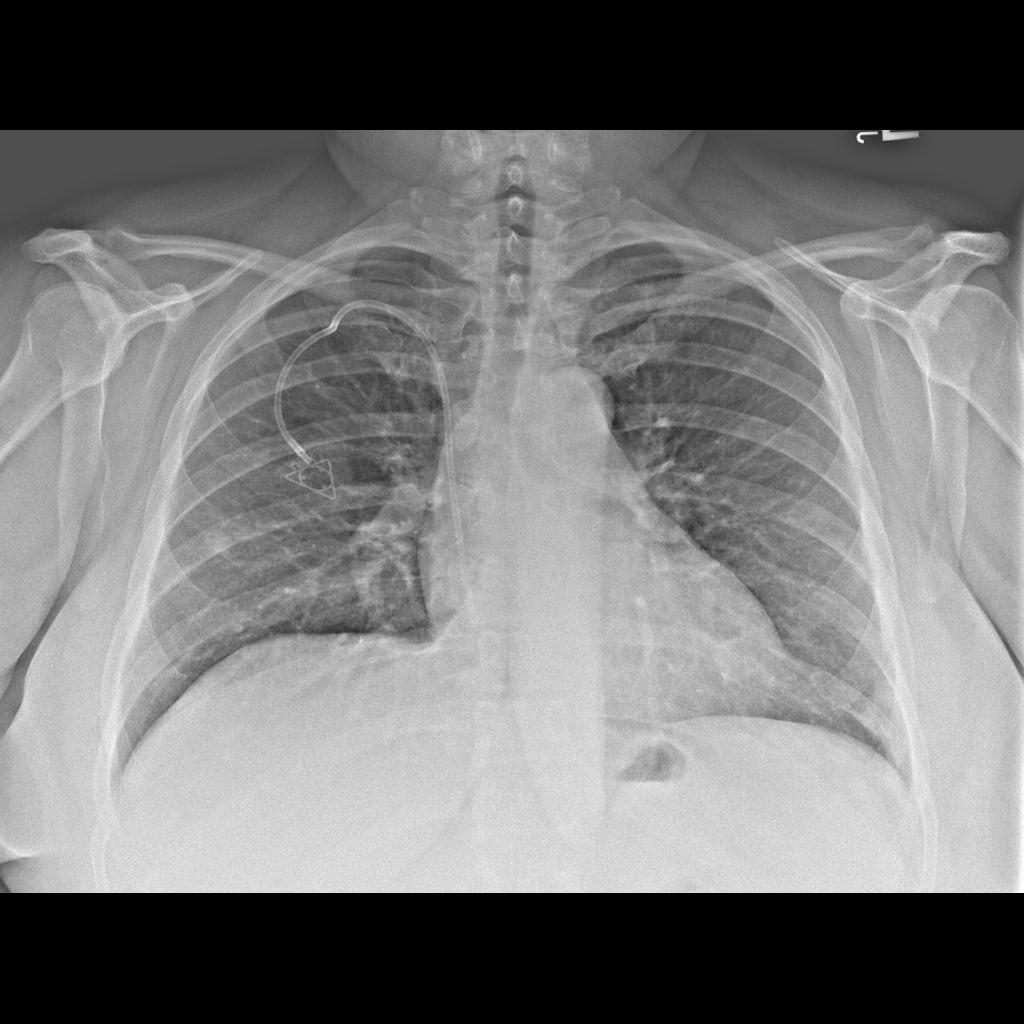Nodule: (203, 522, 237, 562)
